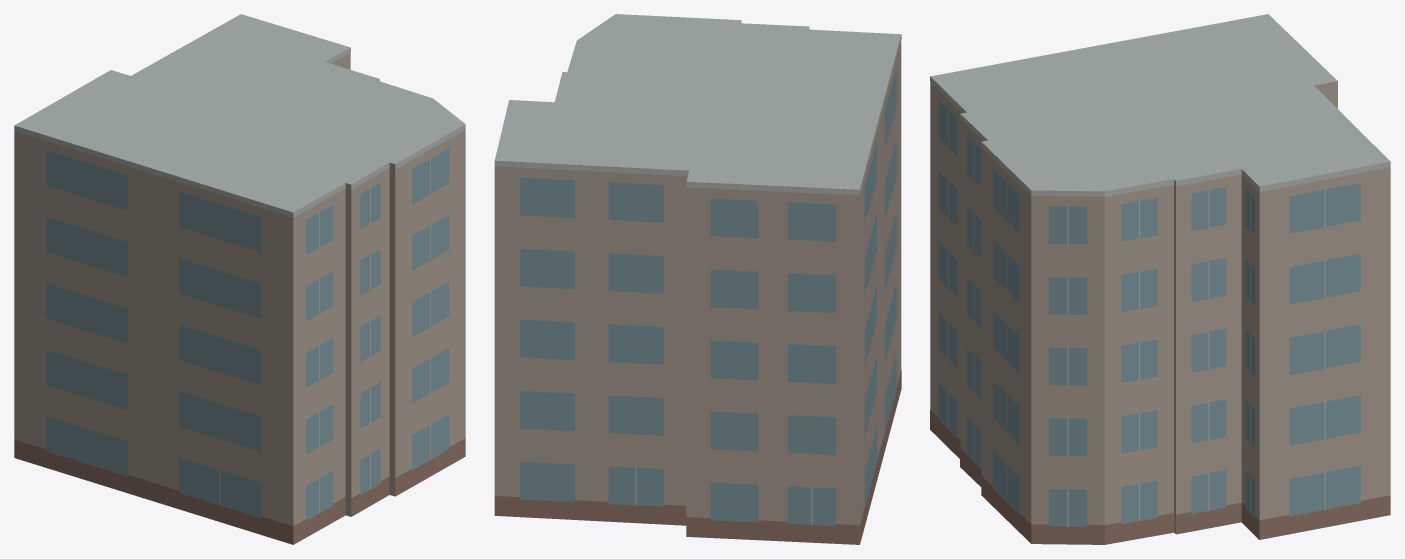
File: survey-upis-32549440.glb
3 renders of one model, left to right at view 1: azimuth 30°, elevation 25°; view 2: azimuth 150°, elevation 25°; view 3: azimuth 270°, elevation 25°, orthographic. The views are drawn at different scales.
Parts seen in each view (by area): view 1: survey-upis-32549440.tmp; view 2: survey-upis-32549440.tmp; view 3: survey-upis-32549440.tmp.
Boxes of the visible parts, <box> form: survey-upis-32549440.tmp: <box>14,14,465,544</box>; survey-upis-32549440.tmp: <box>494,14,901,544</box>; survey-upis-32549440.tmp: <box>930,14,1390,544</box>.
Size of the model in its own units: 16.43 by 15.25 by 18.01.
